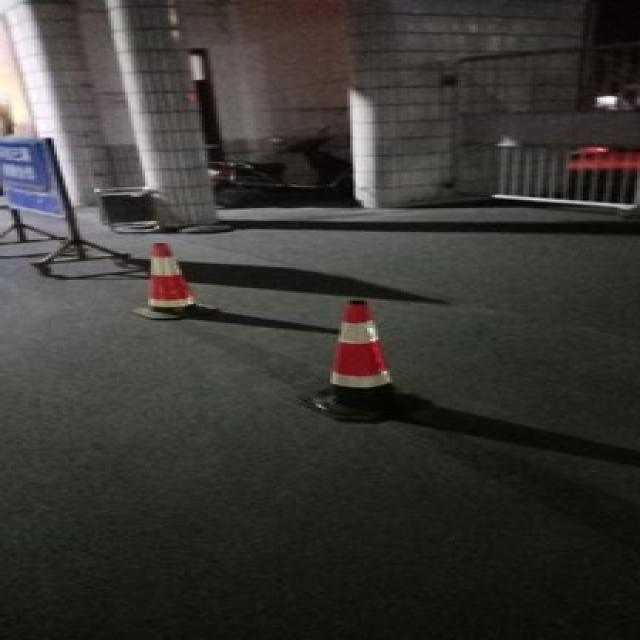motorbike: (202, 121, 353, 206)
reflective_cone: (293, 298, 424, 419), (125, 242, 219, 318)
